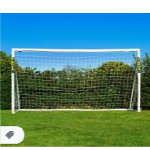goals: (10, 47, 142, 113)
